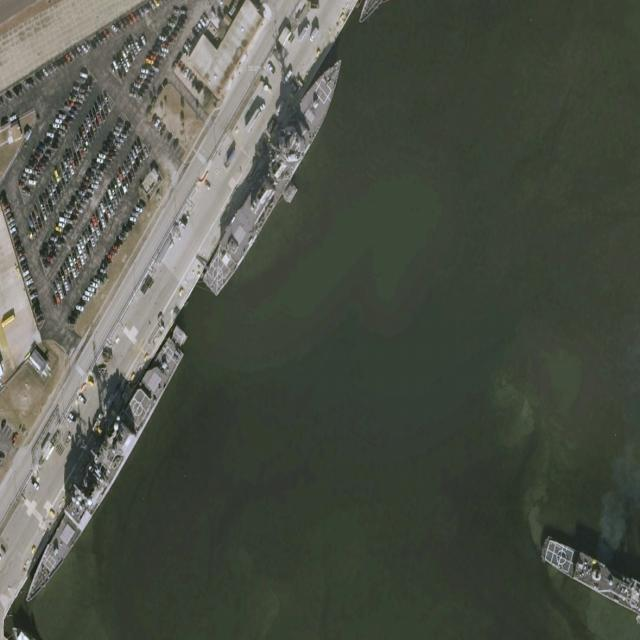Cruiser: (15, 334, 187, 612)
Destroyer: (199, 44, 353, 302)
Frigate: (538, 532, 636, 609)
